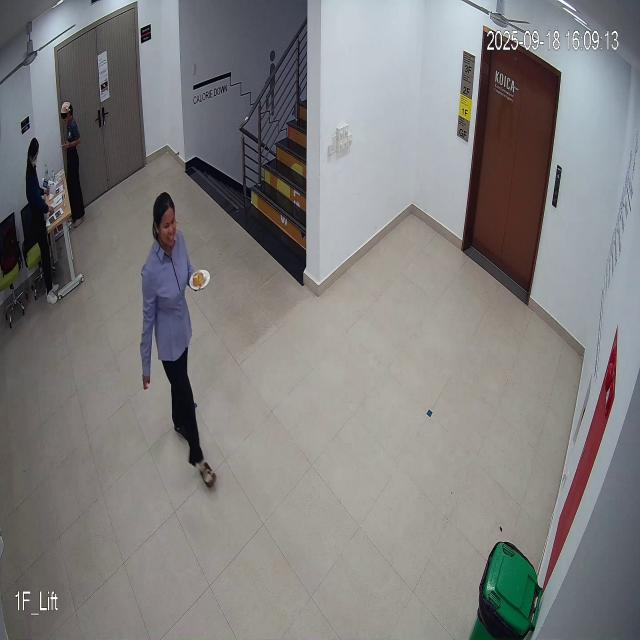face: (150, 191, 180, 249)
